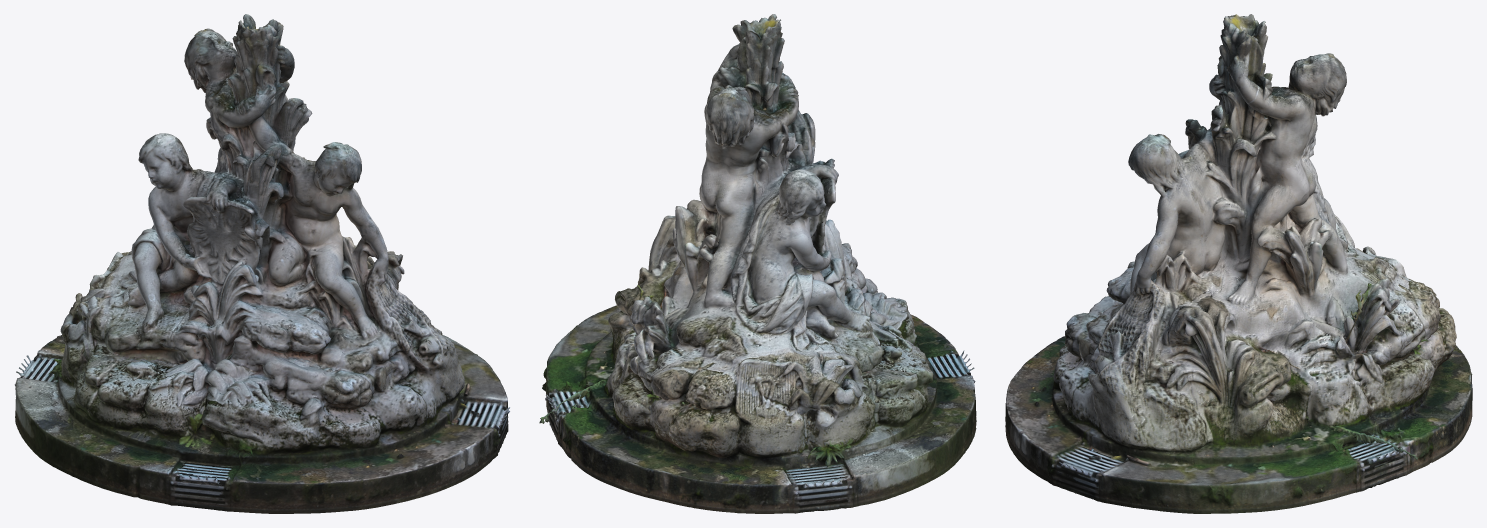
File: fountain_with_three_putts_brno_luzanky.glb
3 views of the same model, side by side, from view 1: azimuth 30°, elevation 25°; view 2: azimuth 150°, elevation 25°; view 3: azimuth 270°, elevation 25° (orthographic).
Size of the model in its own units: 3.25 by 3.05 by 3.26.
1 material, 1 textured.
